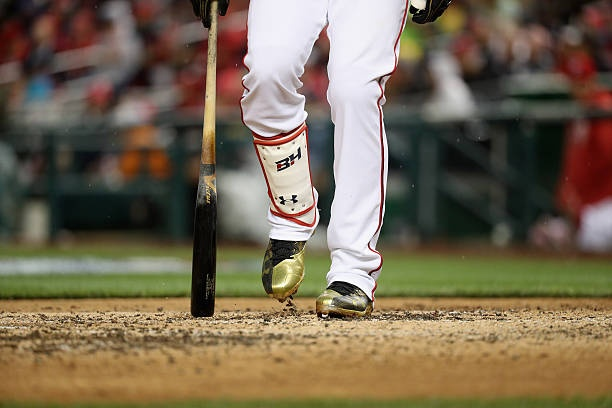bita: (188, 1, 224, 322)
